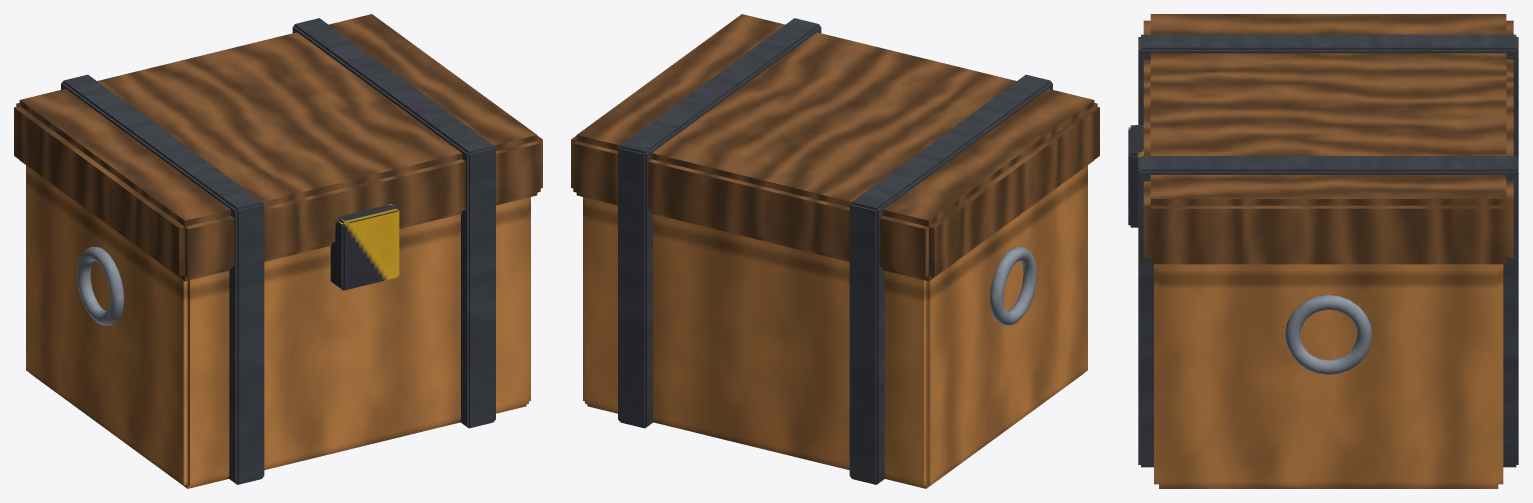
Rendered from furn_crate.glb.
3 renders of one model, left to right at view 1: azimuth 30°, elevation 25°; view 2: azimuth 150°, elevation 25°; view 3: azimuth 270°, elevation 25°, orthographic. The views are drawn at different scales.
Parts seen in each view (by area): view 1: furn_crate; view 2: furn_crate; view 3: furn_crate.
Part boxes in pixels (x1,y1,x2,y2): furn_crate: (14,14,542,488); furn_crate: (571,14,1099,488); furn_crate: (1128,14,1518,488).
Bounding box in the file's own units: 0.8885 × 0.64 × 0.76.
5 materials, 5 textured.
